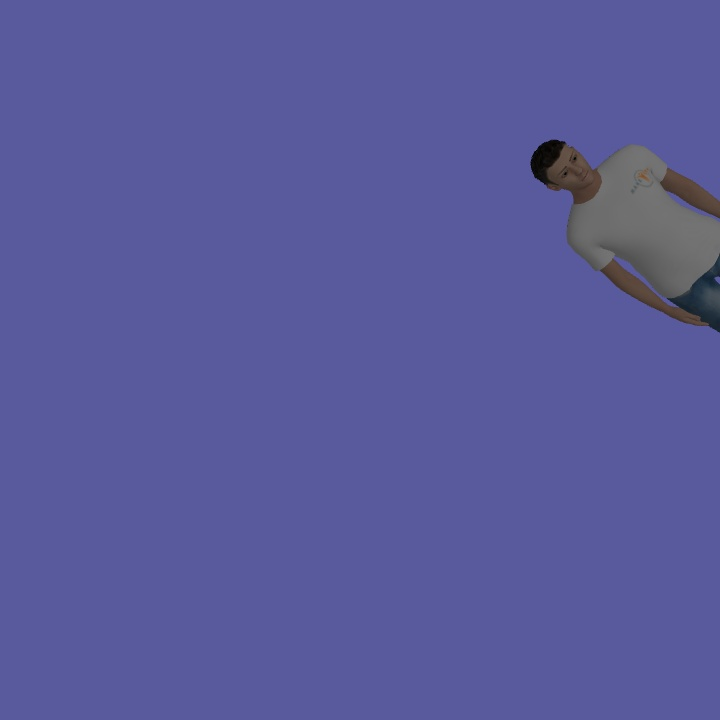victim: (528, 137, 720, 333)
